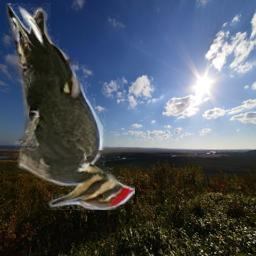Woodpecker: (5, 3, 135, 210)
